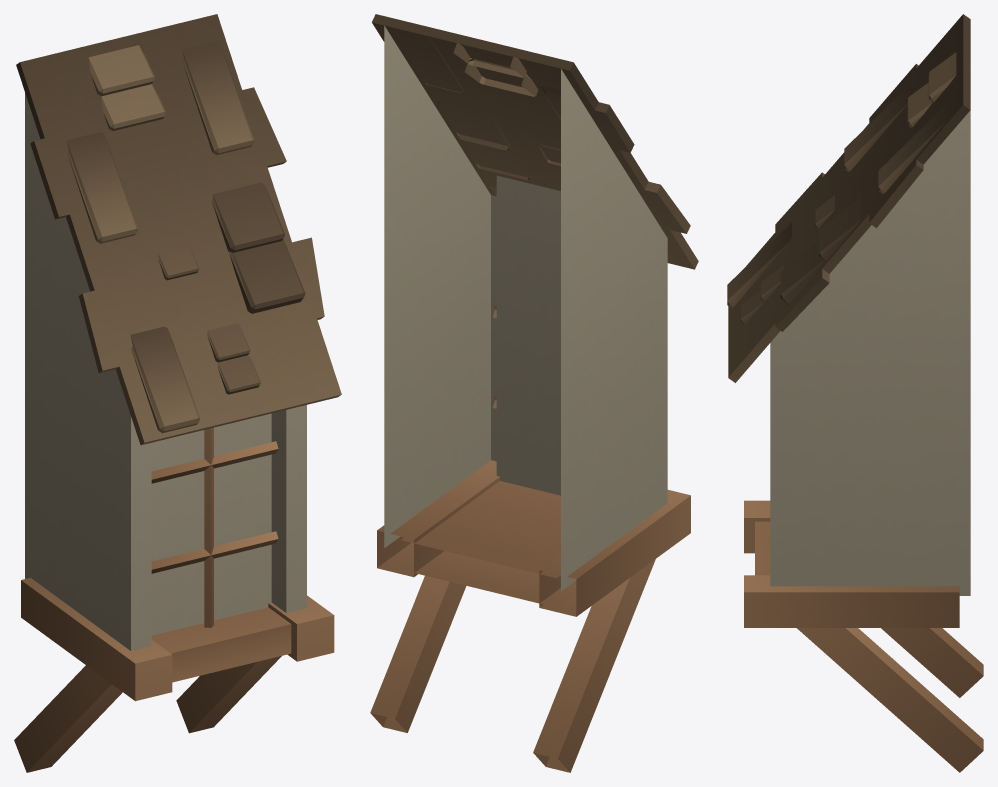
File: ZLP_Build_A_25.FBX
3 renders of one model, left to right at view 1: azimuth 30°, elevation 25°; view 2: azimuth 150°, elevation 25°; view 3: azimuth 270°, elevation 25°, orthographic. The views are drawn at different scales.
Parts seen in each view (by area): view 1: ZLP_Build_A_25; view 2: ZLP_Build_A_25; view 3: ZLP_Build_A_25.
Boxes of the visible parts, box(x1,y1,x2,y2) form: ZLP_Build_A_25: box(14, 14, 341, 772); ZLP_Build_A_25: box(370, 14, 698, 772); ZLP_Build_A_25: box(727, 14, 983, 772).
Bounding box in the file's own units: 171 × 497 × 172.
